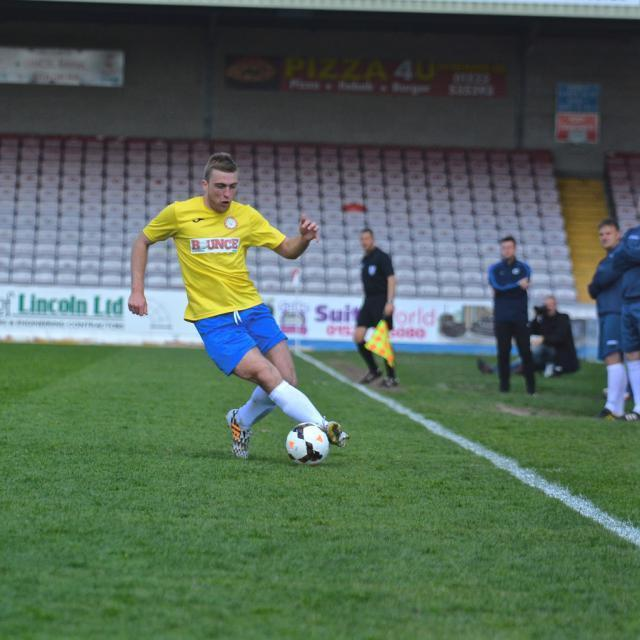football: (271, 419, 343, 463)
